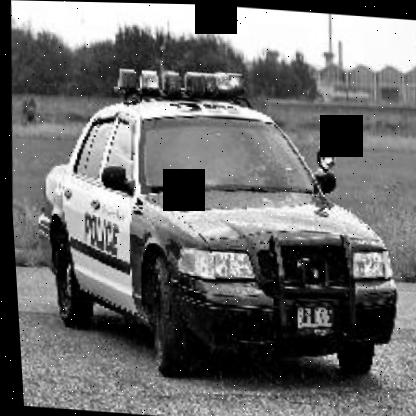emergency: (5, 49, 415, 384)
